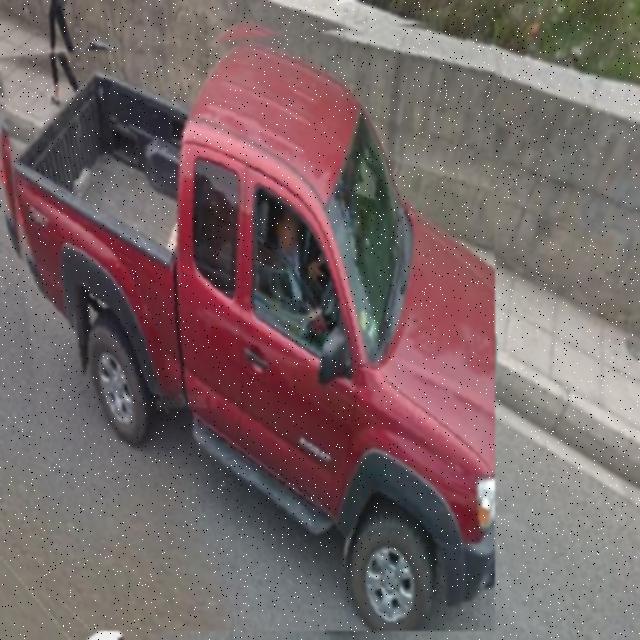car: (1, 18, 496, 632)
